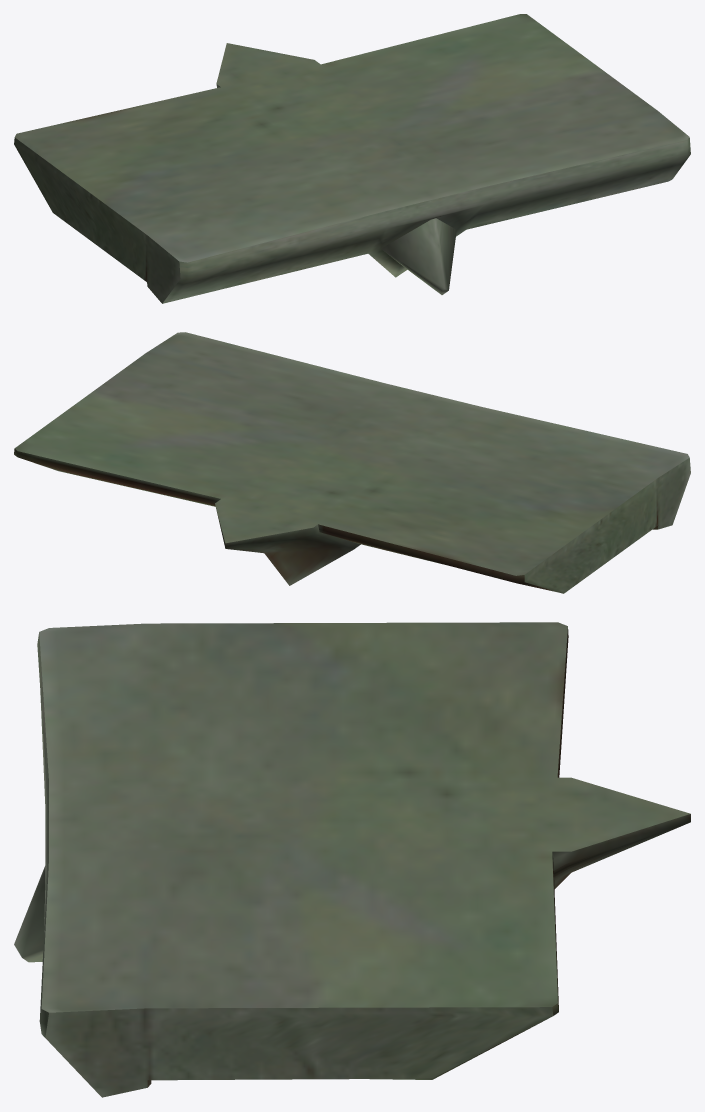
The model's file is Ruins_Trim_Top_Deco_4M_A.fbx.
3 views of the same model, one above another, from view 1: azimuth 30°, elevation 25°; view 2: azimuth 150°, elevation 25°; view 3: azimuth 270°, elevation 25° (orthographic). The views are drawn at different scales.
Visible parts, largest first — view 1: Ruins_Trim_Top_Deco_4M_A; view 2: Ruins_Trim_Top_Deco_4M_A; view 3: Ruins_Trim_Top_Deco_4M_A.
Boxes of the visible parts, x1,y1,x2,y2 form: Ruins_Trim_Top_Deco_4M_A: [14, 14, 690, 303]; Ruins_Trim_Top_Deco_4M_A: [14, 332, 690, 593]; Ruins_Trim_Top_Deco_4M_A: [14, 622, 690, 1097].
Bounding box in the file's own units: 400 × 83.1 × 297.
